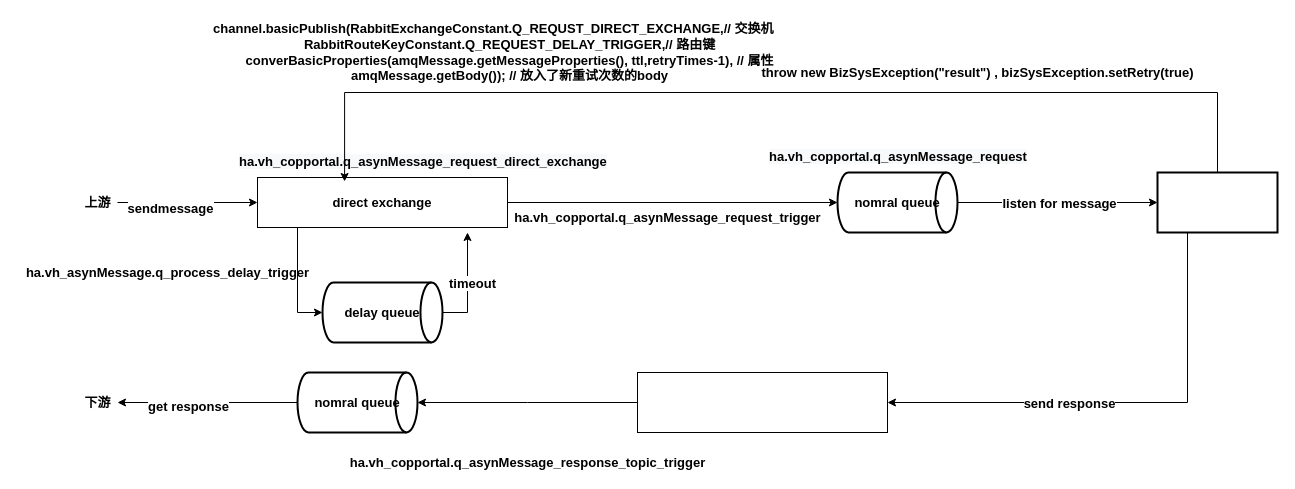
This 1295x489 diagram has some shape labels left out. Each missing label, with the centre of its shape:
topic exchange: (x=762, y=402)
异步消息系统: (x=1217, y=202)
